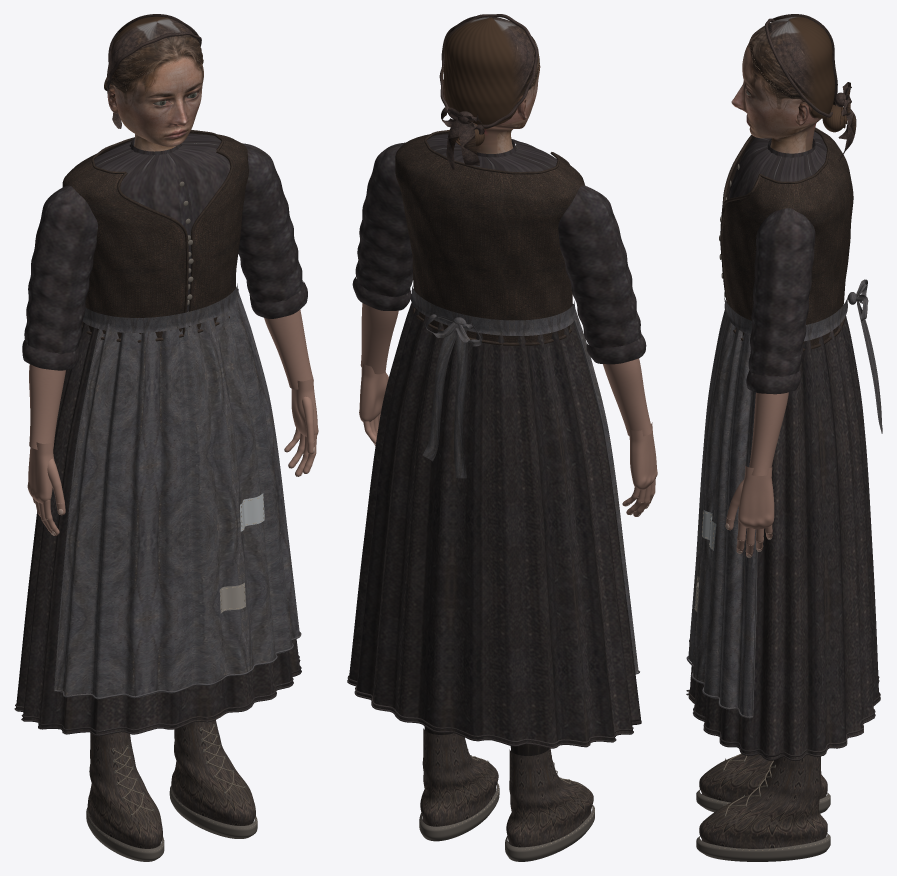
Rendered from viktoria_gabriel_v11.glb.
The picture shows the model from 3 angles, left to right: view 1: azimuth 30°, elevation 25°; view 2: azimuth 150°, elevation 25°; view 3: azimuth 270°, elevation 25°; orthographic projection. The views are drawn at different scales.
Visible parts, largest first — view 1: apron, dress-skirt, vest, sleeve--1, sleeve-1, bodice, boot-upper--1, face, boot-upper-1, hair-shell, waistband, forearm--1 (+13 smaller); view 2: dress-skirt, vest, sleeve--1, hair-shell, sleeve-1, boot-upper--1, boot-upper-1, waistband, forearm--1, hand--1, bodice, forearm-1 (+13 smaller); view 3: dress-skirt, apron, vest, sleeve-1, boot-upper-1, hair-shell, face, bodice, hand-1, boot-upper--1, forearm-1, boot-sole-1 (+11 smaller).
Boxes of the visible parts, x1=… form: apron: x1=55, y1=289, x2=299, y2=698; dress-skirt: x1=16, y1=322, x2=300, y2=736; vest: x1=62, y1=132, x2=248, y2=338; sleeve--1: x1=24, y1=185, x2=97, y2=354; sleeve-1: x1=238, y1=143, x2=303, y2=303; bodice: x1=94, y1=133, x2=230, y2=224; boot-upper--1: x1=87, y1=732, x2=162, y2=848; face: x1=114, y1=58, x2=203, y2=151; boot-upper-1: x1=171, y1=720, x2=255, y2=825; hair-shell: x1=110, y1=16, x2=202, y2=87; waistband: x1=82, y1=283, x2=238, y2=332; forearm--1: x1=29, y1=364, x2=65, y2=449; dress-skirt: x1=348, y1=302, x2=641, y2=747; vest: x1=395, y1=132, x2=584, y2=342; sleeve--1: x1=558, y1=185, x2=641, y2=347; hair-shell: x1=443, y1=17, x2=539, y2=129; sleeve-1: x1=355, y1=142, x2=412, y2=296; boot-upper--1: x1=506, y1=748, x2=593, y2=847; boot-upper-1: x1=420, y1=728, x2=498, y2=826; waistband: x1=410, y1=286, x2=575, y2=335; forearm--1: x1=603, y1=358, x2=652, y2=436; hand--1: x1=622, y1=422, x2=657, y2=516; bodice: x1=427, y1=133, x2=557, y2=171; forearm-1: x1=360, y1=303, x2=398, y2=374; dress-skirt: x1=689, y1=316, x2=879, y2=760; apron: x1=688, y1=310, x2=756, y2=716; vest: x1=722, y1=127, x2=853, y2=345; sleeve-1: x1=748, y1=208, x2=815, y2=376; boot-upper-1: x1=699, y1=755, x2=827, y2=848; hair-shell: x1=747, y1=16, x2=834, y2=119; face: x1=731, y1=43, x2=820, y2=153; bodice: x1=729, y1=131, x2=826, y2=198; hand-1: x1=726, y1=466, x2=774, y2=556; boot-upper--1: x1=699, y1=754, x2=827, y2=802; forearm-1: x1=749, y1=392, x2=788, y2=475; boot-sole-1: x1=696, y1=833, x2=830, y2=861.
Size of the model in its own units: 0.599 by 1.63 by 0.3567.
27 materials, 17 textured.
